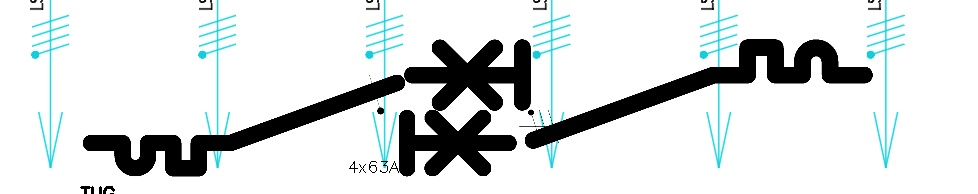interruptor_termomagnetico: (400, 36, 876, 152), (80, 72, 519, 179)
